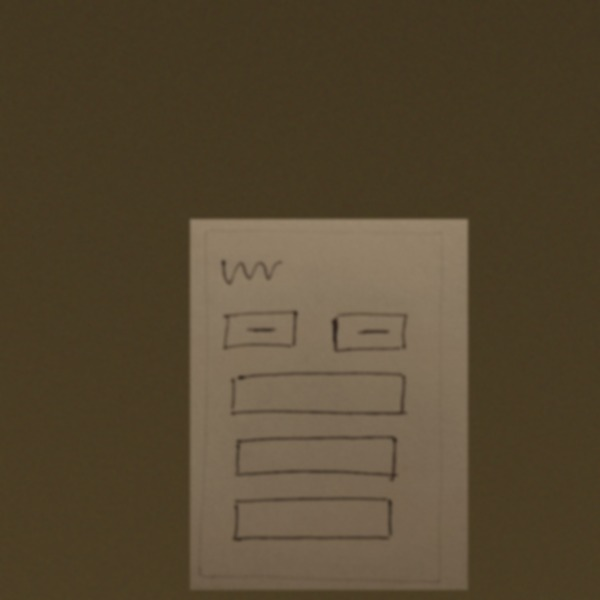button: (326, 306, 413, 358), (218, 309, 302, 356)
text: (216, 254, 285, 287)
text_input: (225, 369, 413, 423), (230, 434, 404, 485), (230, 495, 397, 547)
